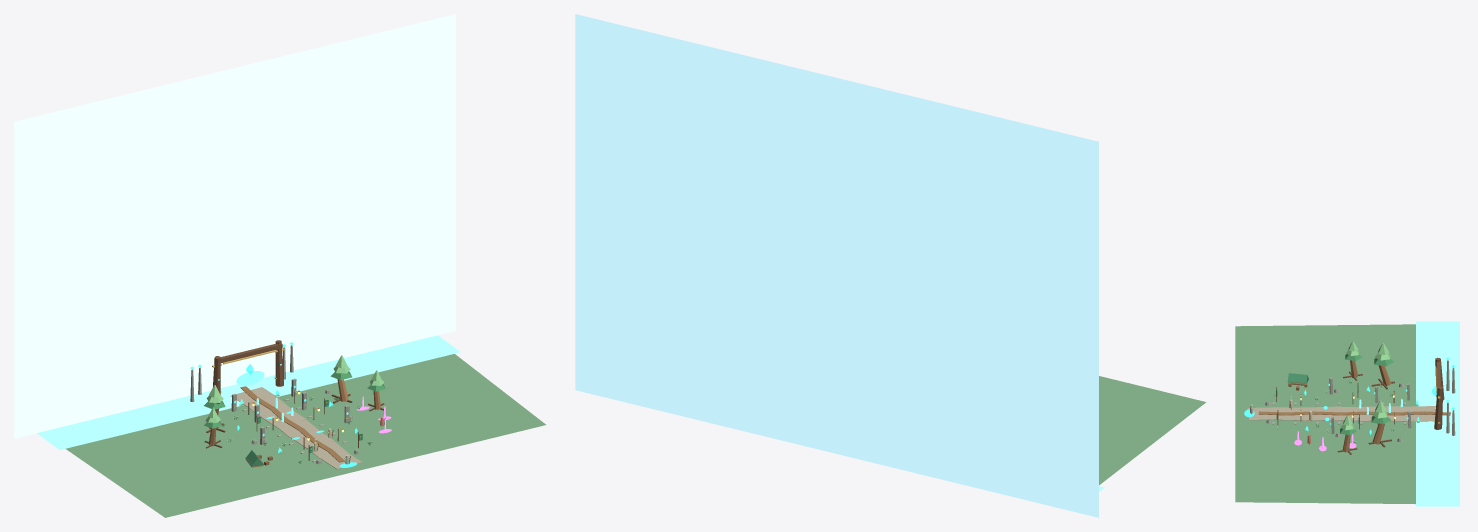
File: elarthalas_approach_v001.glb
The picture shows the model from 3 angles, left to right: view 1: azimuth 30°, elevation 25°; view 2: azimuth 150°, elevation 25°; view 3: azimuth 270°, elevation 25°; orthographic projection. The views are drawn at different scales.
Visible parts, largest first — view 1: ELAR_Terrain_Backdrop_SacredMorningSky, ELAR_Terrain_SacredApproachGround_76x38m, ELAR_Terrain_DistantBlueMistBackplate; view 2: ELAR_Terrain_Backdrop_SacredMorningSky, ELAR_Terrain_SacredApproachGround_76x38m; view 3: ELAR_Terrain_SacredApproachGround_76x38m, ELAR_Terrain_DistantBlueMistBackplate, ELAR_Terrain_LongRootroad_MossyStone_01, ELAR_ArchiveCity_SilentGate_Right_LivingPillar, ELAR_Terrain_LongRootroad_MossyStone_06, ELAR_Terrain_LongRootroad_MossyStone_05, ELAR_Terrain_LongRootroad_MossyStone_02, ELAR_Terrain_LongRootroad_MossyStone_03, ELAR_Terrain_LongRootroad_MossyStone_00.
Boxes of the visible parts, <box> form: ELAR_Terrain_Backdrop_SacredMorningSky: <box>14,14,455,438</box>; ELAR_Terrain_SacredApproachGround_76x38m: <box>65,354,545,517</box>; ELAR_Terrain_DistantBlueMistBackplate: <box>37,335,460,449</box>; ELAR_Terrain_Backdrop_SacredMorningSky: <box>575,14,1098,517</box>; ELAR_Terrain_SacredApproachGround_76x38m: <box>1099,376,1206,485</box>; ELAR_Terrain_SacredApproachGround_76x38m: <box>1235,324,1415,504</box>; ELAR_Terrain_DistantBlueMistBackplate: <box>1416,321,1459,506</box>; ELAR_Terrain_LongRootroad_MossyStone_01: <box>1275,407,1304,420</box>; ELAR_ArchiveCity_SilentGate_Right_LivingPillar: <box>1434,386,1443,429</box>; ELAR_Terrain_LongRootroad_MossyStone_06: <box>1412,406,1435,421</box>; ELAR_Terrain_LongRootroad_MossyStone_05: <box>1386,406,1413,421</box>; ELAR_Terrain_LongRootroad_MossyStone_02: <box>1302,407,1331,420</box>; ELAR_Terrain_LongRootroad_MossyStone_03: <box>1329,406,1359,421</box>; ELAR_Terrain_LongRootroad_MossyStone_00: <box>1247,407,1276,420</box>.
Bounding box in the file's own units: 88 × 60.4 × 41.7.
